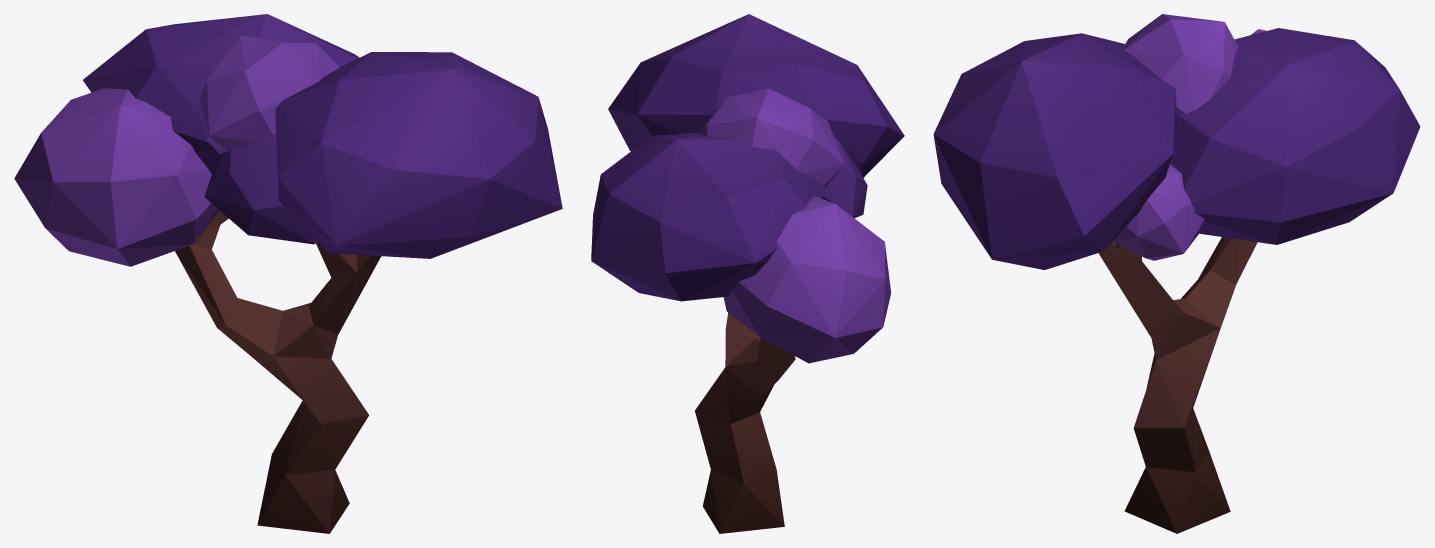
The model's file is MagicTree2.fbx.
3 views of the same model, side by side, from view 1: azimuth 30°, elevation 25°; view 2: azimuth 150°, elevation 25°; view 3: azimuth 270°, elevation 25° (orthographic). The views are drawn at different scales.
Visible parts, largest first — view 1: MagicTree2; view 2: MagicTree2; view 3: MagicTree2.
Boxes of the visible parts, x1,y1,x2,y2 form: MagicTree2: (14,14,562,533); MagicTree2: (591,14,904,533); MagicTree2: (933,14,1420,533).
Bounding box in the file's own units: 404 × 463 × 421.
